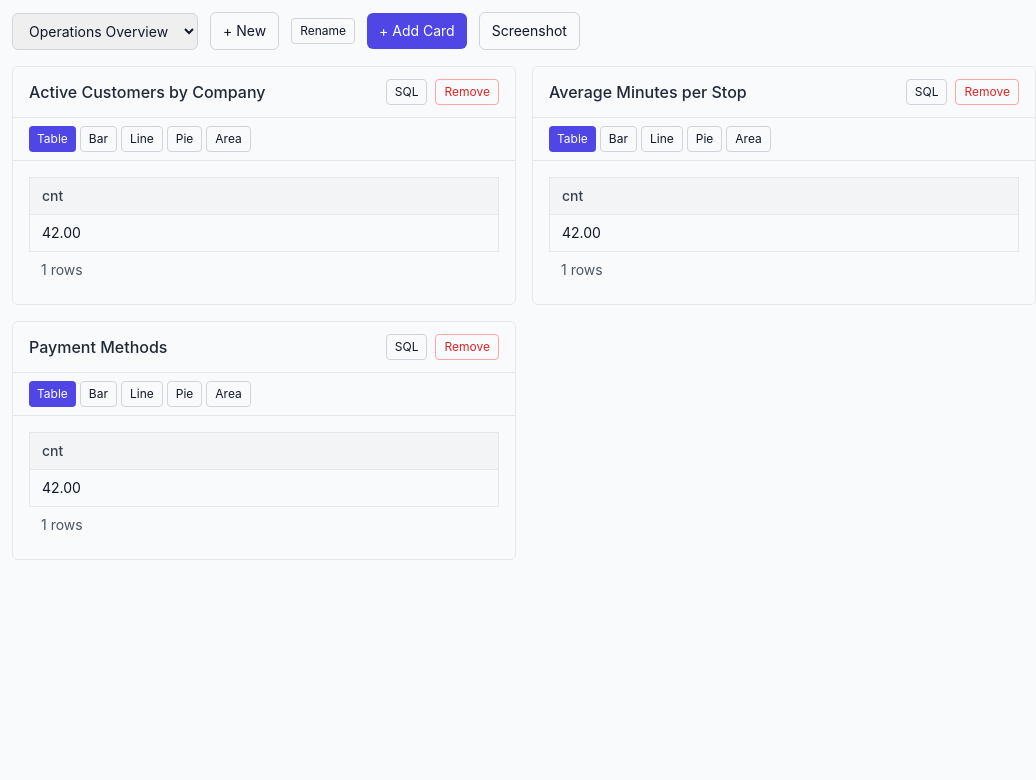
Test case: DashboardView › shows add card form when clicking + Add Card
The width and height of the screenshot is (1036, 780).
Click the button "+ Add Card".
click(417, 31)  # box top-left (367, 13), bottom-right (467, 49)
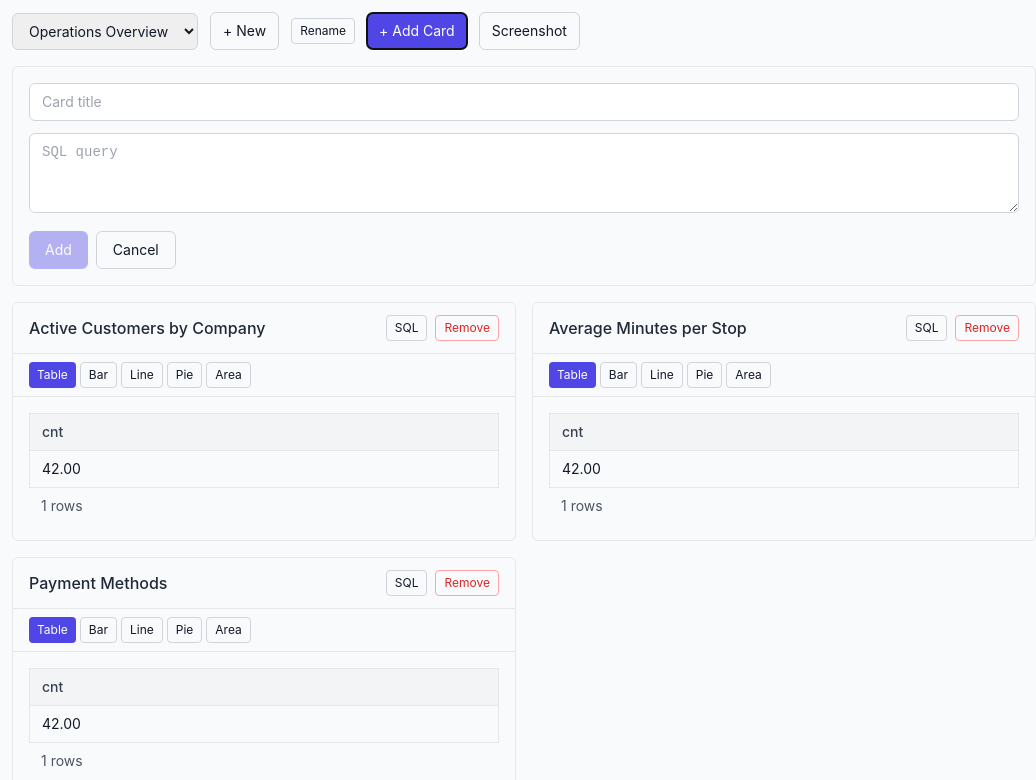
Expected: the field with placeholder "Card title" is shown, top-left (29, 83), bottom-right (1019, 121)
Expected: the text box with placeholder "SQL query" is shown, top-left (29, 133), bottom-right (1019, 213)
